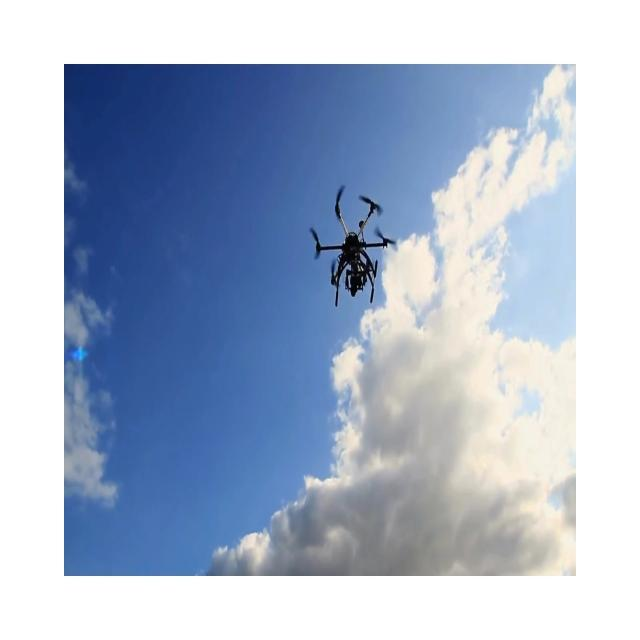drone: (309, 184, 396, 308)
